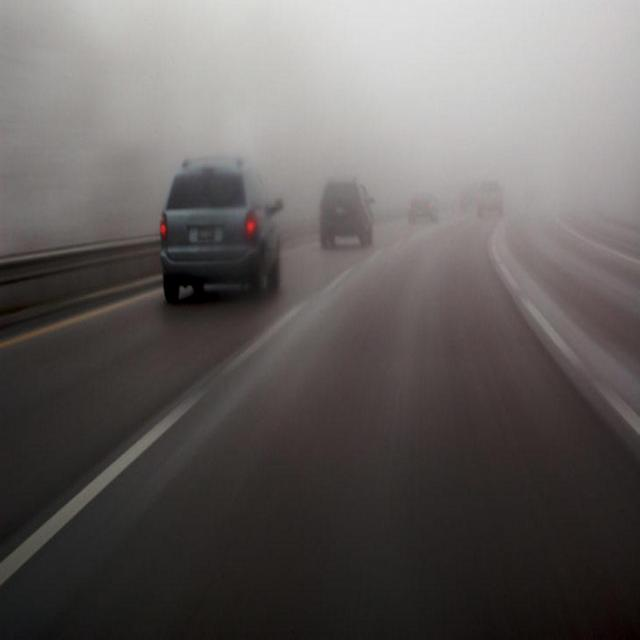Car: (150, 150, 280, 309), (303, 158, 387, 271), (468, 167, 514, 241), (397, 180, 448, 237)
